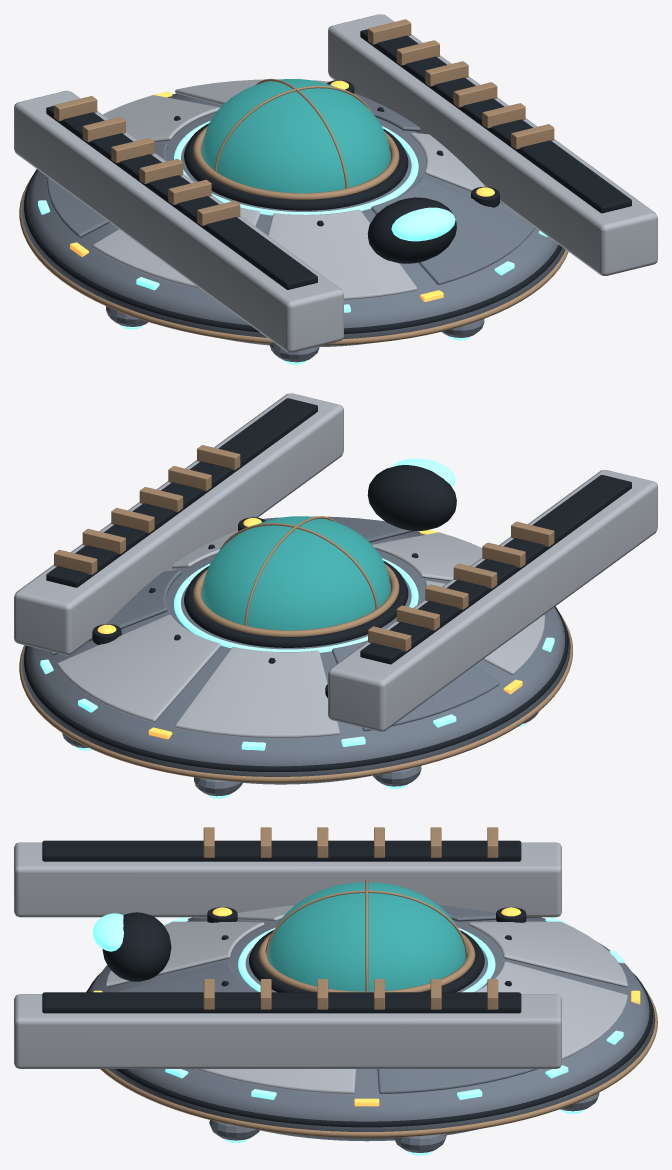
File: ufo-sniper.glb
3 views of the same model, one above another, from view 1: azimuth 30°, elevation 25°; view 2: azimuth 150°, elevation 25°; view 3: azimuth 270°, elevation 25° (orthographic).
Visible parts, largest first — view 1: Class Hardware, Upper Rotor, Alien Hull; view 2: Class Hardware, Upper Rotor, Alien Hull; view 3: Class Hardware, Upper Rotor, Alien Hull.
Boxes of the visible parts, x1,y1,x2,y2 form: Class Hardware: (14,14,657,352); Upper Rotor: (38,78,547,312); Alien Hull: (19,93,568,364); Class Hardware: (14,393,657,731); Upper Rotor: (40,516,554,750); Alien Hull: (19,531,572,798); Class Hardware: (14,827,561,1068); Upper Rotor: (93,879,640,1106); Alien Hull: (86,917,657,1155).
Size of the model in its own units: 1.7 by 0.74 by 2.04.
